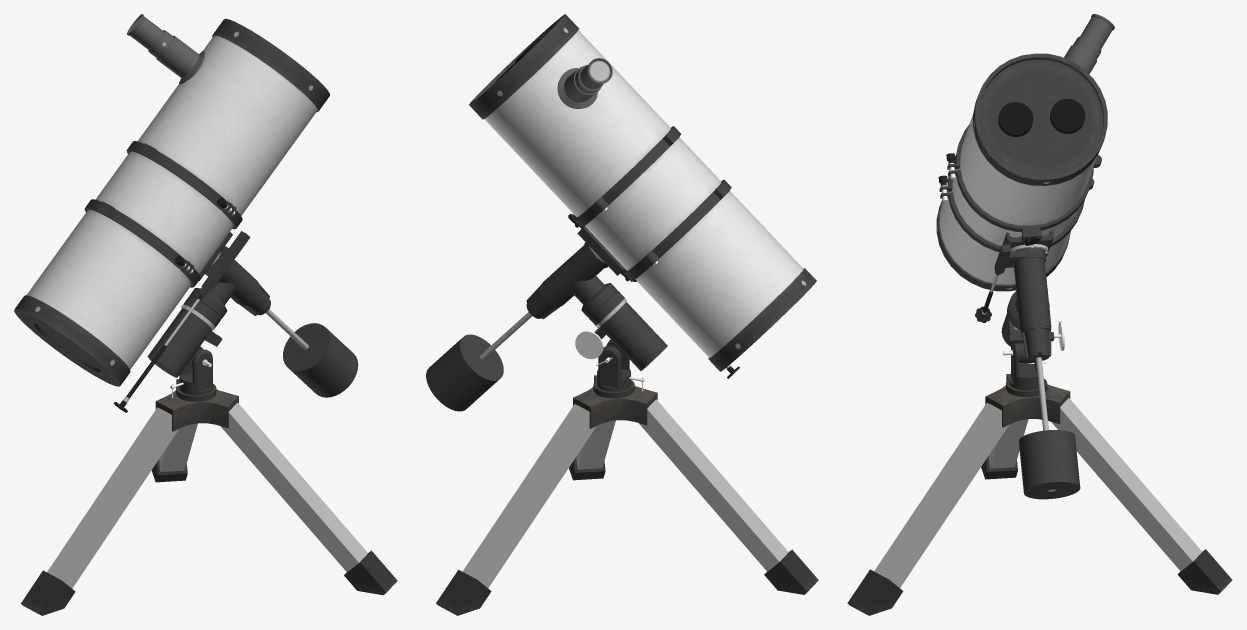
The model's file is reflector_telescope.glb.
3 renders of one model, left to right at view 1: azimuth 30°, elevation 25°; view 2: azimuth 150°, elevation 25°; view 3: azimuth 270°, elevation 25°, orthographic. The views are drawn at different scales.
Parts seen in each view (by area): view 1: Main4_l, Leg2_l, Leg1_l, Main5_l, Load_l, Main1_l, Xaxis_l, LegsBase_l, Leg22_l, Leg11_l, Rim111_l, Rim11_l (+6 smaller); view 2: Main4_l, Leg3_l, Leg2_l, Load_l, Main1_l, Xaxis_l, Main5_l, LegsBase_l, Yaxis_l, Leg33_l, Leg22_l, Zaxis_l (+9 smaller); view 3: Main1_l, Main4_l, Leg1_l, Leg3_l, Load_l, LegsBase_l, Yaxis_l, Leg11_l, Leg33_l, Rim12_l, Leg2_l, Main3_l (+10 smaller).
Boxes of the visible parts, bbox=[...] form: Main4_l: bbox=[27, 35, 317, 369]; Leg2_l: bbox=[47, 407, 178, 588]; Leg1_l: bbox=[220, 402, 367, 572]; Main5_l: bbox=[14, 295, 130, 386]; Load_l: bbox=[283, 323, 358, 397]; Main1_l: bbox=[212, 18, 329, 112]; Xaxis_l: bbox=[147, 308, 222, 377]; LegsBase_l: bbox=[155, 379, 238, 431]; Leg22_l: bbox=[21, 570, 75, 615]; Leg11_l: bbox=[344, 550, 397, 595]; Rim111_l: bbox=[84, 199, 190, 271]; Rim11_l: bbox=[126, 141, 232, 212]; Main4_l: bbox=[484, 30, 803, 357]; Leg3_l: bbox=[462, 404, 596, 587]; Leg2_l: bbox=[639, 399, 788, 571]; Load_l: bbox=[426, 334, 503, 411]; Main1_l: bbox=[469, 14, 579, 119]; Xaxis_l: bbox=[594, 302, 667, 370]; Main5_l: bbox=[708, 268, 816, 371]; LegsBase_l: bbox=[573, 375, 657, 428]; Yaxis_l: bbox=[550, 245, 604, 304]; Leg33_l: bbox=[436, 569, 491, 615]; Leg22_l: bbox=[764, 549, 818, 594]; Zaxis_l: bbox=[597, 339, 630, 391]; Main1_l: bbox=[973, 53, 1107, 185]; Main4_l: bbox=[940, 115, 1096, 284]; Leg1_l: bbox=[874, 402, 1008, 587]; Leg3_l: bbox=[1051, 398, 1201, 571]; Load_l: bbox=[1018, 430, 1080, 499]; LegsBase_l: bbox=[985, 373, 1070, 427]; Yaxis_l: bbox=[1013, 257, 1049, 315]; Leg11_l: bbox=[847, 569, 903, 615]; Leg33_l: bbox=[1177, 549, 1232, 594]; Rim12_l: bbox=[948, 164, 1100, 233]; Leg2_l: bbox=[988, 419, 1028, 468]; Main3_l: bbox=[1050, 99, 1085, 133].
Size of the model in its own units: 191 by 270 by 177.
1 material, 1 textured.
